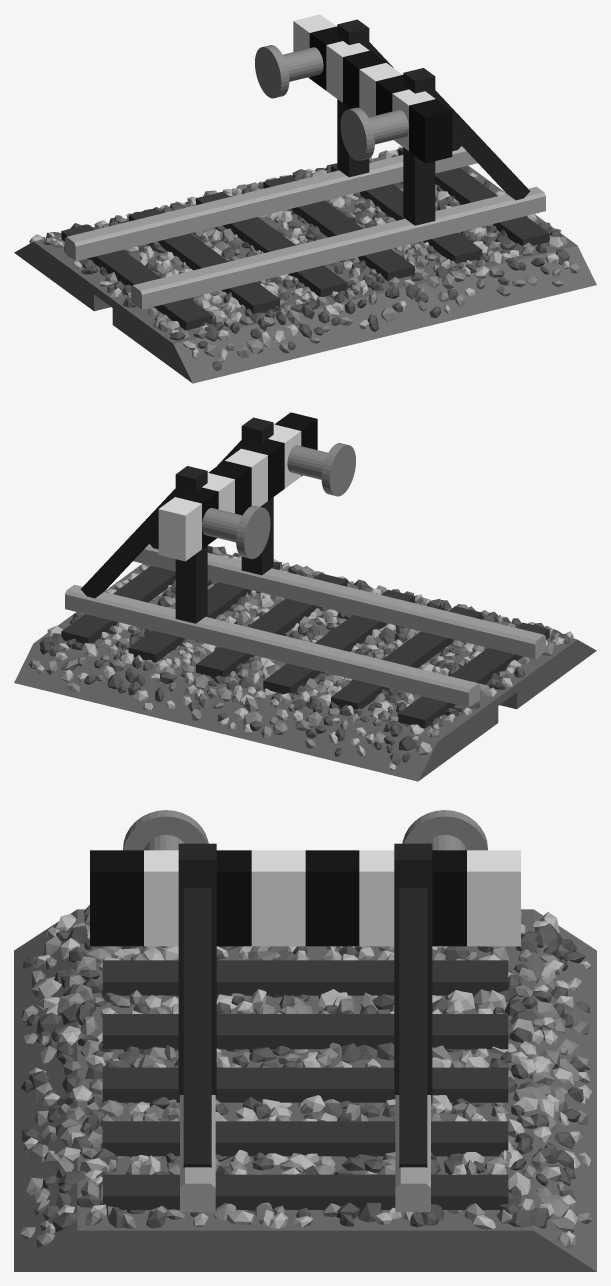
The model's file is Rail_Buffer_Stop.obj.
3 renders of one model, top to bottom at view 1: azimuth 30°, elevation 25°; view 2: azimuth 150°, elevation 25°; view 3: azimuth 270°, elevation 25°, orthographic. The views are drawn at different scales.
Parts seen in each view (by area): view 1: Rail_Buffer_Stop; view 2: Rail_Buffer_Stop; view 3: Rail_Buffer_Stop.
Boxes of the visible parts, box(x1,y1,x2,y2) form: Rail_Buffer_Stop: box(14, 14, 596, 383); Rail_Buffer_Stop: box(14, 412, 596, 781); Rail_Buffer_Stop: box(14, 810, 596, 1271).
Size of the model in its own units: 0.6005 by 0.2837 by 0.46.
Materials: 1 (1 with a texture image).
